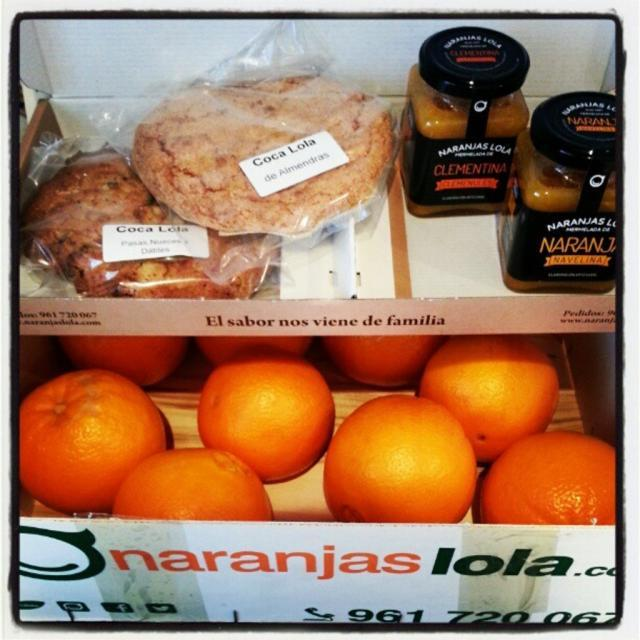Orange: (322, 396, 483, 526), (15, 370, 165, 508), (418, 333, 560, 459), (195, 356, 341, 478), (482, 434, 622, 526), (117, 449, 274, 520), (327, 331, 442, 383), (66, 338, 173, 383), (194, 332, 304, 363)
